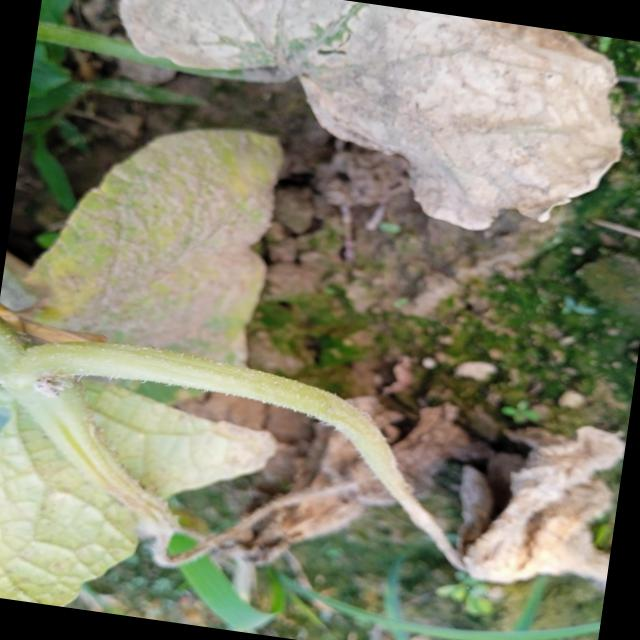cucumber_bacterial: (93, 0, 640, 256), (0, 97, 300, 424), (0, 325, 288, 633), (431, 377, 632, 610)
